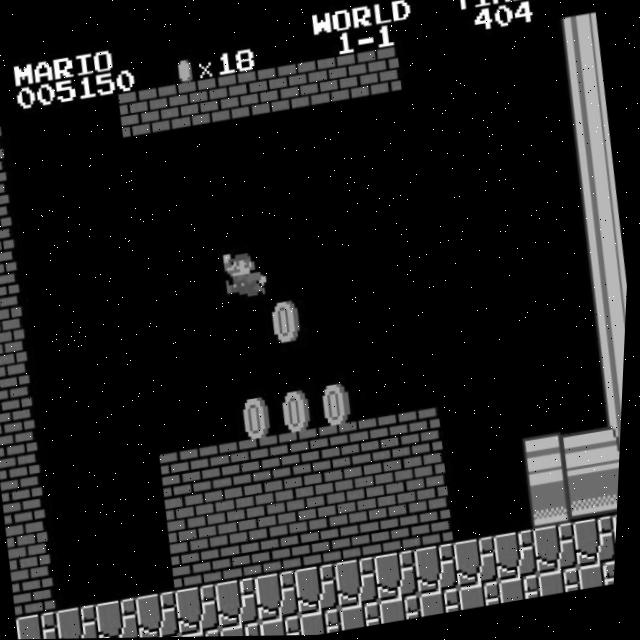1- brick_block: (117, 88, 167, 141), (207, 487, 257, 540), (212, 532, 262, 585), (247, 480, 297, 533), (252, 525, 302, 578), (236, 68, 286, 121), (276, 61, 326, 114), (366, 460, 416, 513), (371, 505, 421, 558), (411, 498, 461, 551), (167, 494, 217, 546), (173, 539, 223, 591), (157, 82, 207, 134), (201, 442, 251, 494), (196, 75, 246, 127), (241, 435, 291, 487), (286, 474, 336, 526), (292, 519, 342, 571), (320, 422, 370, 474), (326, 467, 376, 519), (355, 48, 405, 100), (14, 565, 63, 618), (161, 449, 211, 500), (360, 416, 410, 467), (400, 409, 450, 460), (3, 475, 52, 527), (281, 429, 330, 481), (332, 512, 381, 564), (316, 55, 365, 107), (406, 454, 455, 506), (9, 521, 57, 572), (0, 430, 46, 483), (0, 385, 41, 437), (0, 340, 35, 392), (0, 295, 30, 347), (0, 250, 24, 302), (0, 205, 18, 256), (0, 160, 12, 211), (0, 114, 7, 166)
11- little_mario: (221, 246, 273, 302)
14- pipe: (553, 14, 603, 67), (570, 149, 620, 202), (570, 472, 620, 524), (559, 59, 609, 111), (576, 194, 625, 247), (565, 105, 615, 156), (581, 240, 631, 291), (565, 427, 614, 479), (587, 284, 630, 336), (592, 330, 628, 382), (598, 375, 627, 426), (603, 421, 625, 472), (609, 465, 624, 517)
15- pipe_head: (525, 434, 575, 486), (530, 479, 580, 531)
17- undestructible_block: (178, 584, 228, 637), (337, 557, 387, 610), (377, 550, 427, 603), (496, 530, 546, 583), (218, 578, 268, 630), (297, 564, 347, 616), (416, 544, 466, 596), (456, 537, 506, 589), (536, 523, 585, 576), (258, 571, 307, 623), (575, 517, 622, 569), (139, 591, 188, 638), (99, 597, 148, 639), (60, 604, 109, 639), (21, 610, 69, 639), (344, 602, 389, 632), (463, 582, 508, 612), (503, 575, 548, 605), (383, 596, 429, 625), (423, 589, 468, 618), (542, 569, 587, 598), (304, 609, 349, 636), (582, 562, 620, 591), (265, 615, 309, 637), (225, 623, 269, 637), (186, 629, 230, 638)
2- coin: (264, 293, 314, 346), (235, 391, 285, 443), (275, 384, 325, 436), (315, 377, 365, 429)
